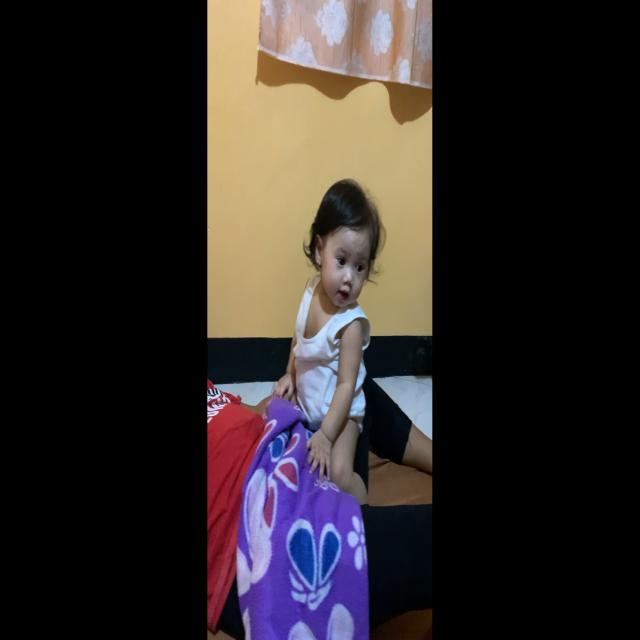child: (270, 177, 388, 507)
